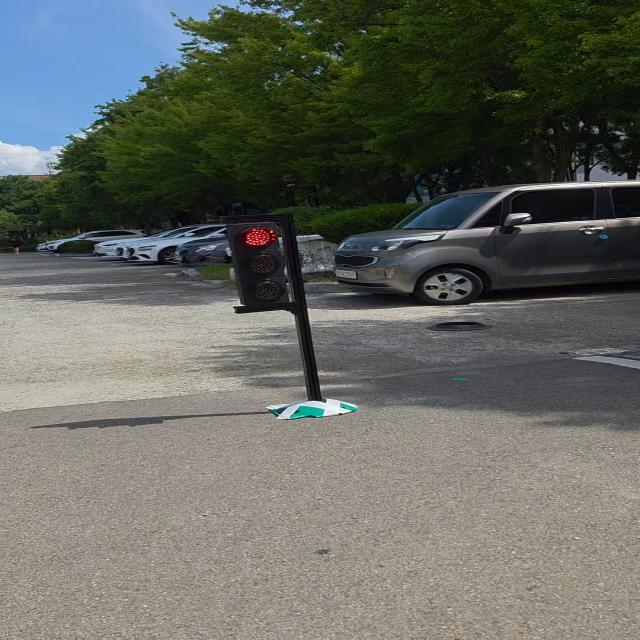red: (221, 215, 293, 315)
